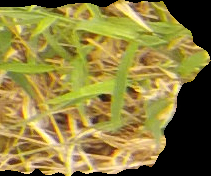grass: (1, 1, 211, 175)
